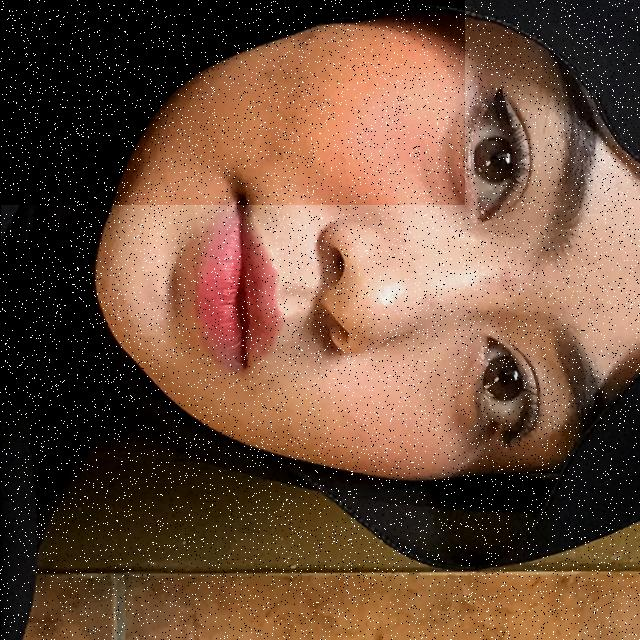ibu: (0, 0, 464, 205)
